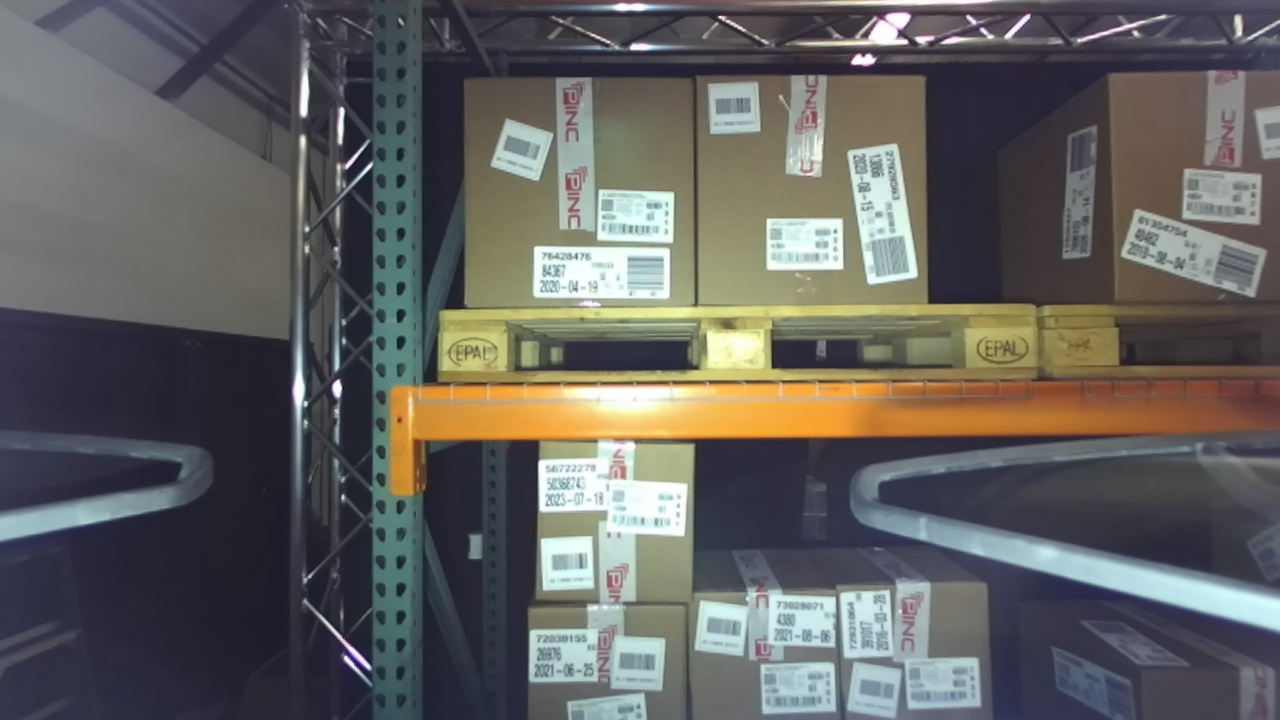box: (440, 59, 718, 324), (681, 55, 944, 329), (1084, 41, 1280, 310), (521, 423, 719, 608), (824, 567, 1009, 720), (512, 588, 715, 720), (679, 572, 858, 720)
